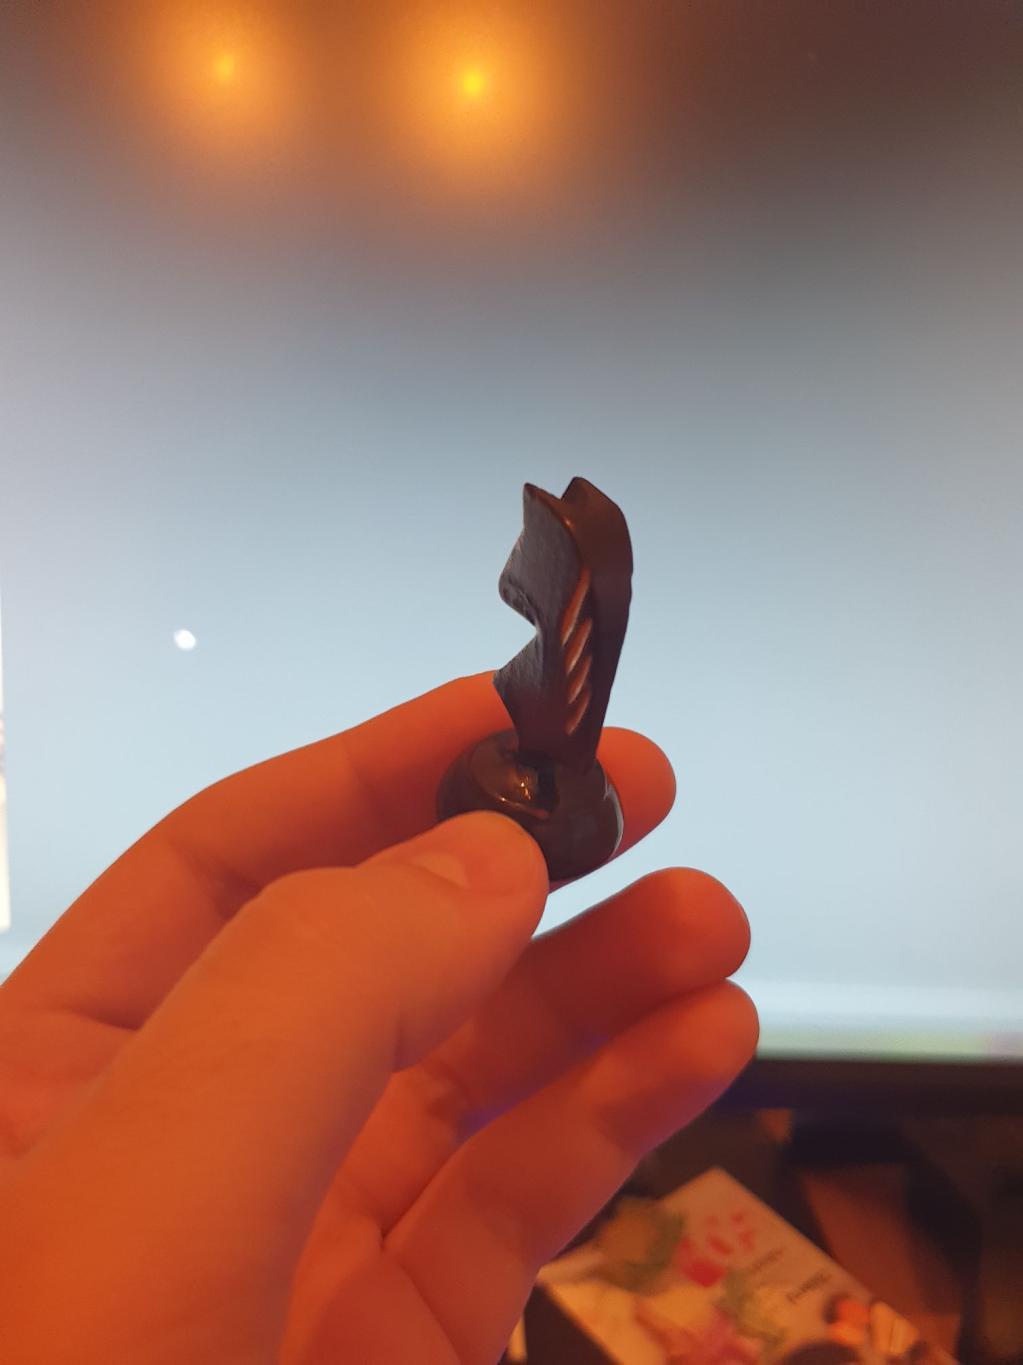bknight: (433, 475, 634, 882)
